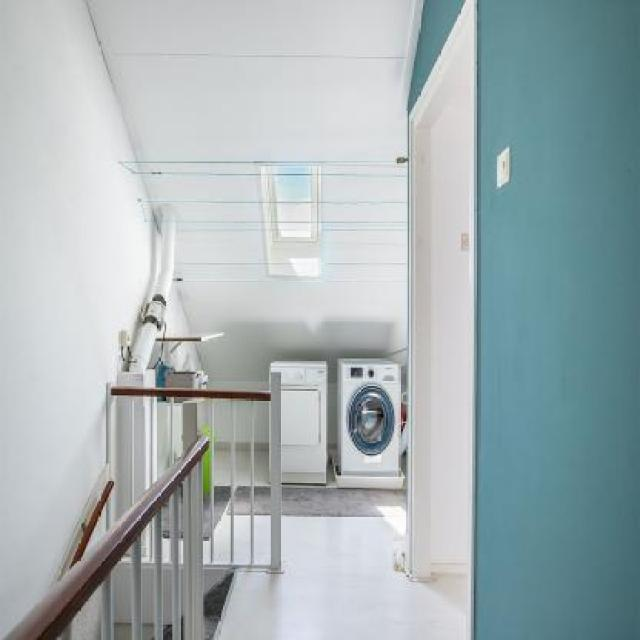floor: (216, 479, 479, 639)
